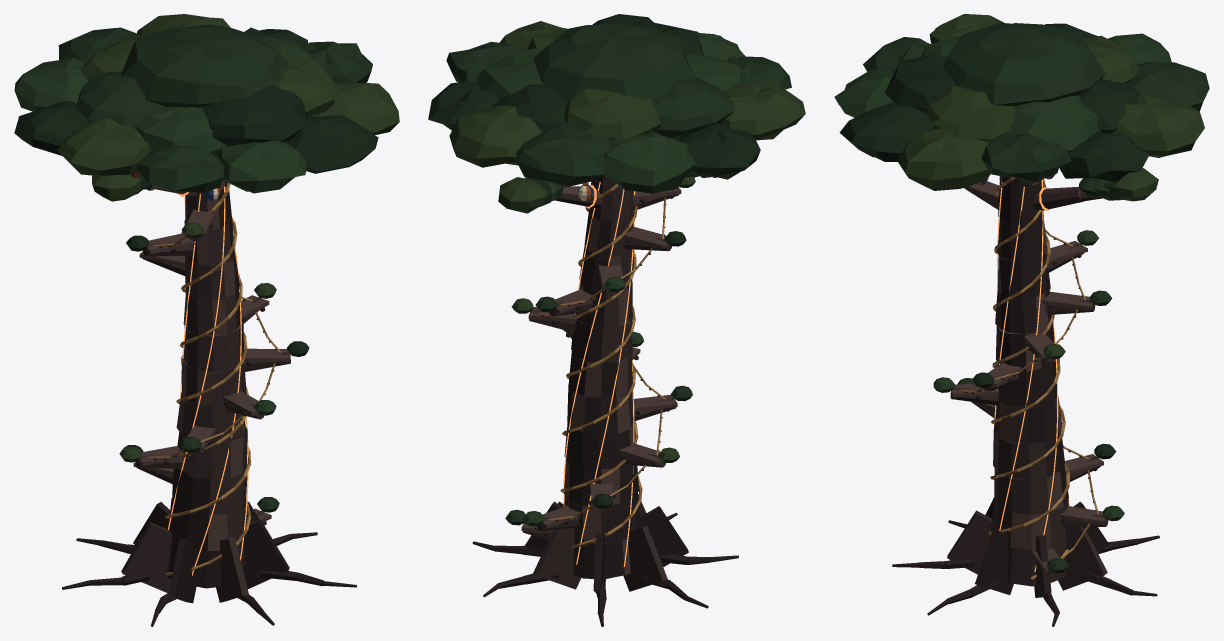
File: bele_tree.glb
The picture shows the model from 3 angles, left to right: view 1: azimuth 30°, elevation 25°; view 2: azimuth 150°, elevation 25°; view 3: azimuth 270°, elevation 25°; orthographic projection. The views are drawn at different scales.
Visible parts, largest first — view 1: Canopy, Trunk, CutBranch2, Platform7, Platform11, Platform4, Platform6, Platform8, Platform12, Platform5, Platform10; view 2: Canopy, Trunk, CutBranch1, Platform11, Platform5, Platform4, Platform9, Platform2, Platform8, Platform12, Platform10, Platform3; view 3: Canopy, Trunk, CutBranch1, Platform9, Platform2, Platform6, Platform10, Platform3, Platform7, Platform8, Platform1, Platform12.
Boxes of the visible parts, <box> form: Canopy: <box>14,14,399,193</box>; Trunk: <box>62,180,356,626</box>; CutBranch2: <box>92,173,198,201</box>; Platform7: <box>241,341,309,371</box>; Platform11: <box>127,233,195,256</box>; Platform4: <box>119,445,184,468</box>; Platform6: <box>223,391,276,419</box>; Platform8: <box>241,283,276,323</box>; Platform12: <box>181,209,215,241</box>; Platform5: <box>179,425,215,455</box>; Platform10: <box>126,236,185,275</box>; Canopy: <box>428,14,805,193</box>; Trunk: <box>472,174,738,626</box>; CutBranch1: <box>498,177,603,213</box>; Platform11: <box>622,227,686,251</box>; Platform5: <box>632,385,692,421</box>; Platform4: <box>619,443,679,467</box>; Platform9: <box>535,289,595,316</box>; Platform2: <box>522,506,580,530</box>; Platform8: <box>511,298,576,332</box>; Platform12: <box>632,176,695,211</box>; Platform10: <box>597,265,625,294</box>; Platform3: <box>588,482,615,511</box>; Canopy: <box>834,14,1209,190</box>; Trunk: <box>892,176,1159,626</box>; CutBranch1: <box>1032,168,1158,210</box>; Platform9: <box>1042,290,1112,314</box>; Platform2: <box>1060,505,1124,528</box>; Platform6: <box>933,377,999,405</box>; Platform10: <box>1046,230,1098,272</box>; Platform3: <box>1065,443,1116,481</box>; Platform7: <box>973,362,1021,391</box>; Platform8: <box>1024,333,1065,362</box>; Platform1: <box>1030,548,1068,576</box>; Platform12: <box>964,181,999,209</box>.
Size of the model in its own units: 28.9 by 46.5 by 29.24.
